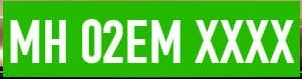character: (149, 17, 182, 65), (8, 18, 41, 65), (192, 17, 219, 65), (219, 17, 245, 65), (244, 17, 270, 65), (269, 17, 295, 65), (125, 16, 149, 65), (42, 17, 67, 64), (80, 17, 103, 65), (101, 18, 124, 65)
